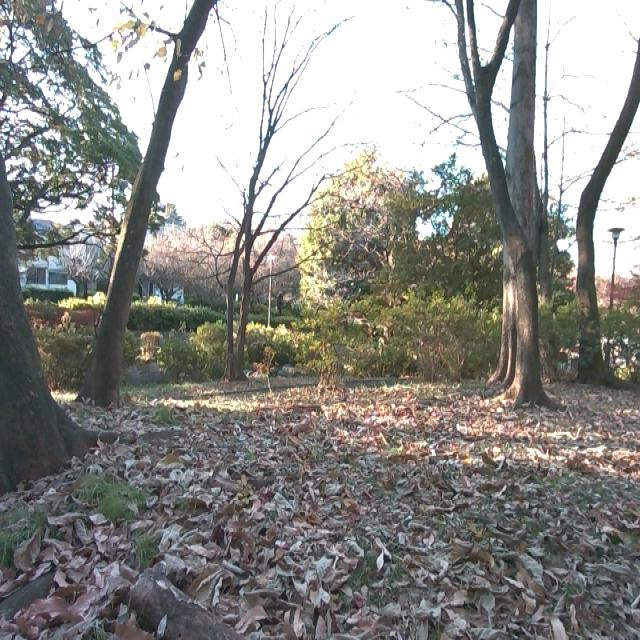bush: (287, 292, 500, 388), (538, 295, 636, 376)
tree: (66, 0, 229, 392), (210, 23, 341, 371), (0, 21, 80, 480), (464, 0, 544, 399), (572, 16, 640, 365)
